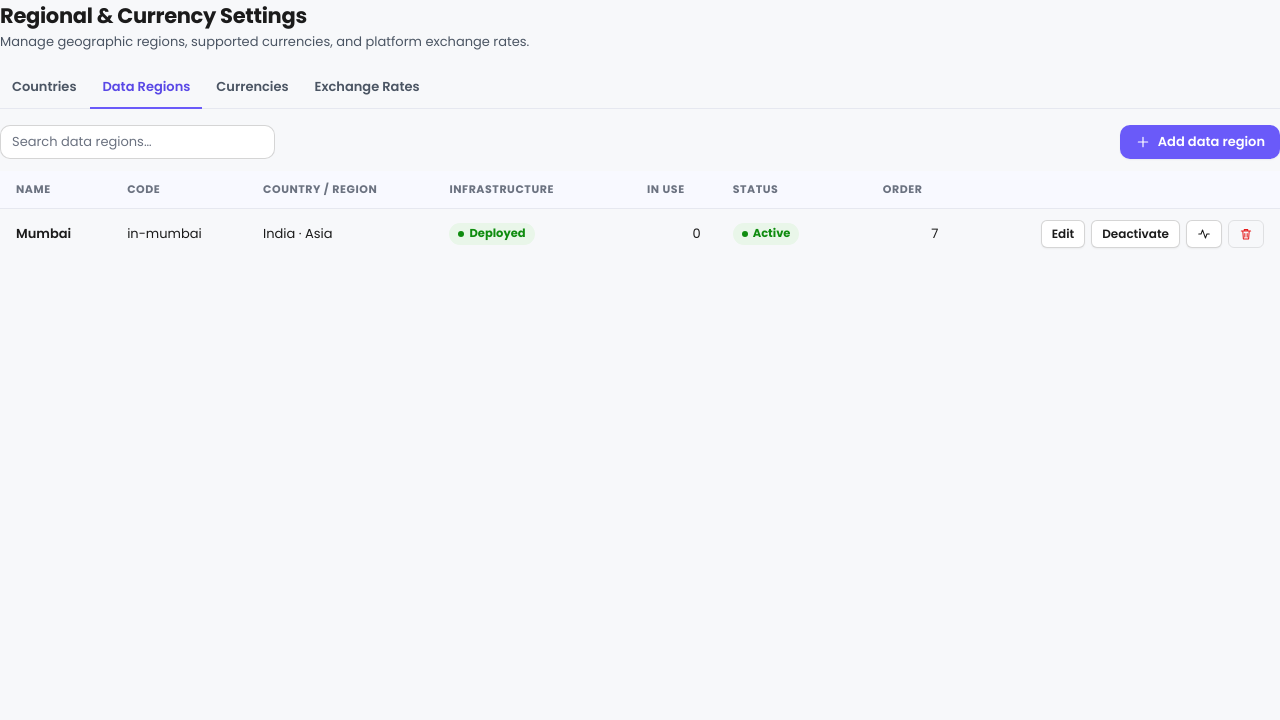
Scenario: RegionalSettings — Data Region country catalog › loads active countries from the country master and locks region to Asia
Expected: the text "Mumbai" is shown, x1=16 y1=224 x2=71 y2=243
Click the button "Add data region".
click(1200, 142)  # box x1=1120 y1=125 x2=1279 y2=159
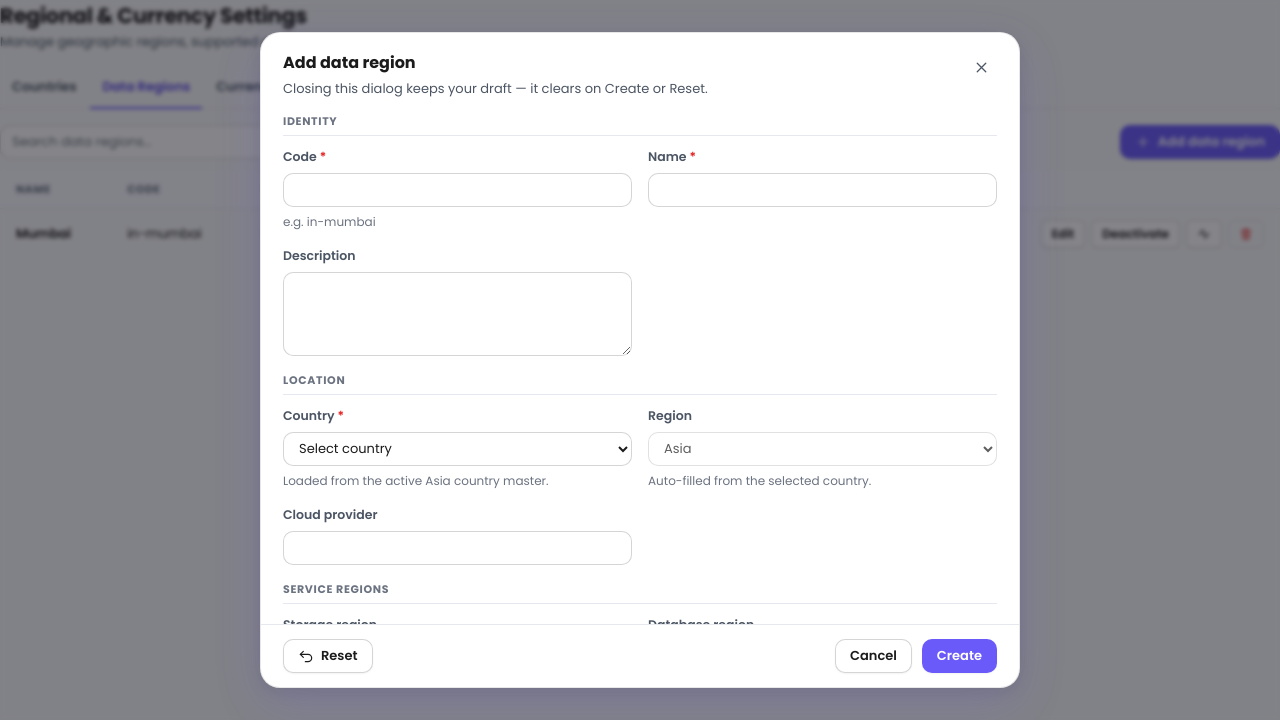
Now the dialog "Add data region" is shown, box x1=260 y1=32 x2=1020 y2=688
Now the dropdown labelled "Region" shows "Asia", box x1=648 y1=432 x2=997 y2=466
Now the dropdown labelled "Region" is disabled, box x1=648 y1=432 x2=997 y2=466
